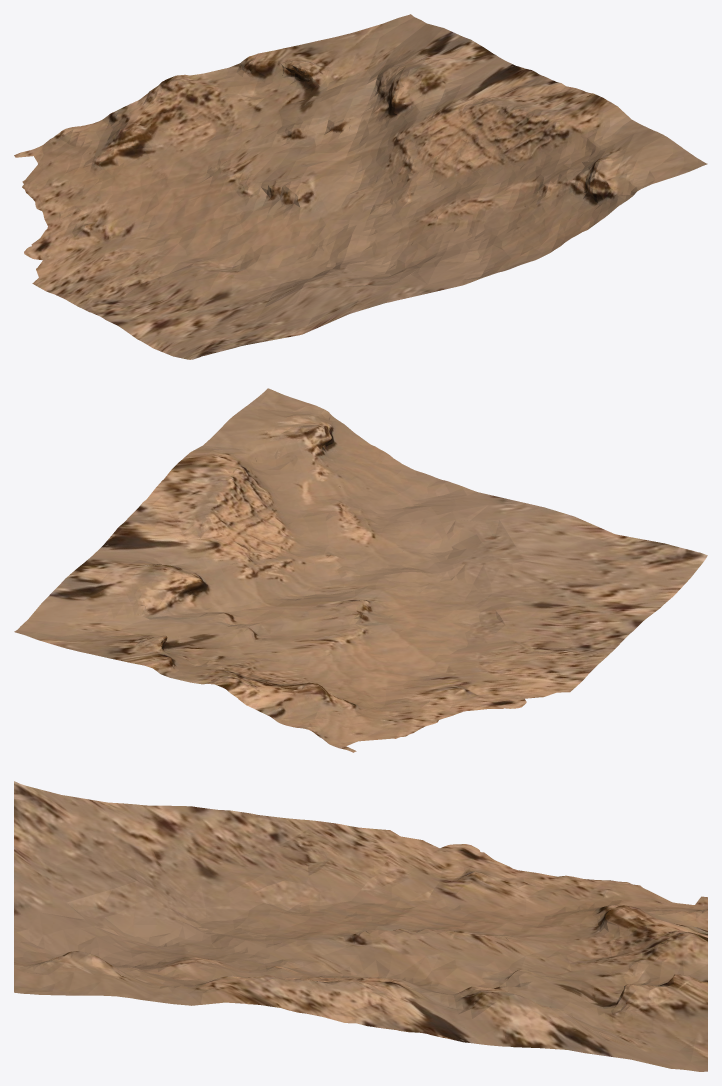
3 renders of one model, top to bottom at view 1: azimuth 30°, elevation 25°; view 2: azimuth 150°, elevation 25°; view 3: azimuth 270°, elevation 25°, orthographic. The views are drawn at different scales.
Size of the model in its own units: 2.09 by 0.4342 by 2.09.
Materials: 2 (2 with a texture image).
